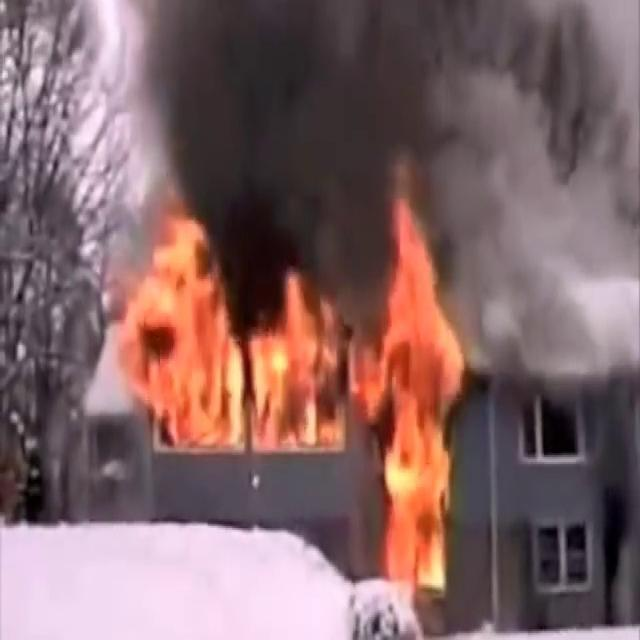Fire: (104, 196, 356, 444), (369, 143, 462, 594)
Smoke: (88, 0, 639, 293)
